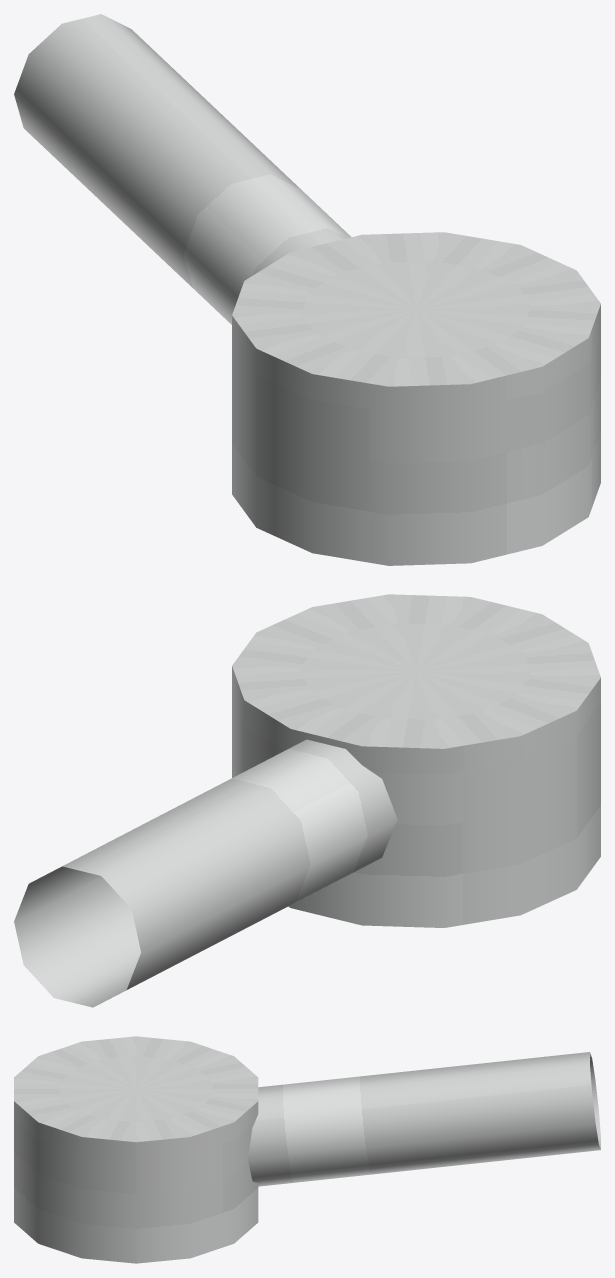
The model's file is trusssignalarm_sloped8_c0.obj.
3 renders of one model, top to bottom at view 1: azimuth 30°, elevation 25°; view 2: azimuth 150°, elevation 25°; view 3: azimuth 270°, elevation 25°, orthographic. The views are drawn at different scales.
Parts seen in each view (by area): view 1: trusssignalarm_sloped8_c0; view 2: trusssignalarm_sloped8_c0; view 3: trusssignalarm_sloped8_c0.
Boxes of the visible parts, x1,y1,x2,y2 form: trusssignalarm_sloped8_c0: (14, 14, 600, 565); trusssignalarm_sloped8_c0: (14, 594, 600, 1007); trusssignalarm_sloped8_c0: (14, 1036, 600, 1263).
Size of the model in its own units: 0.8188 by 0.5487 by 1.92.
